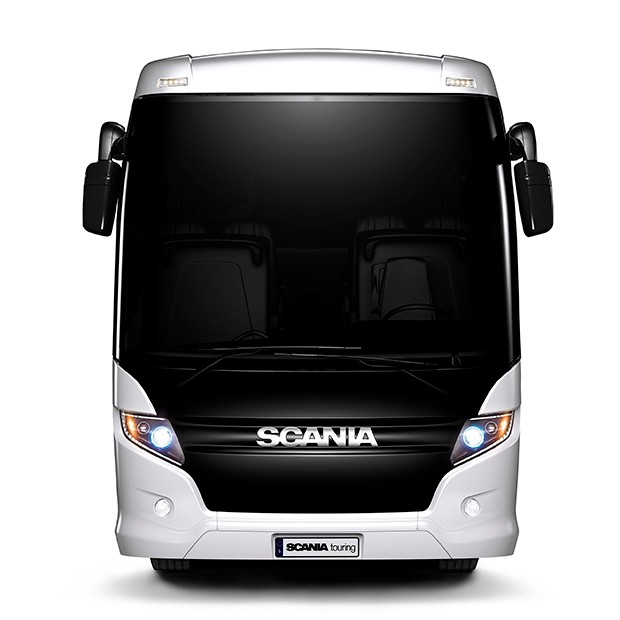bus: (78, 39, 556, 589)
